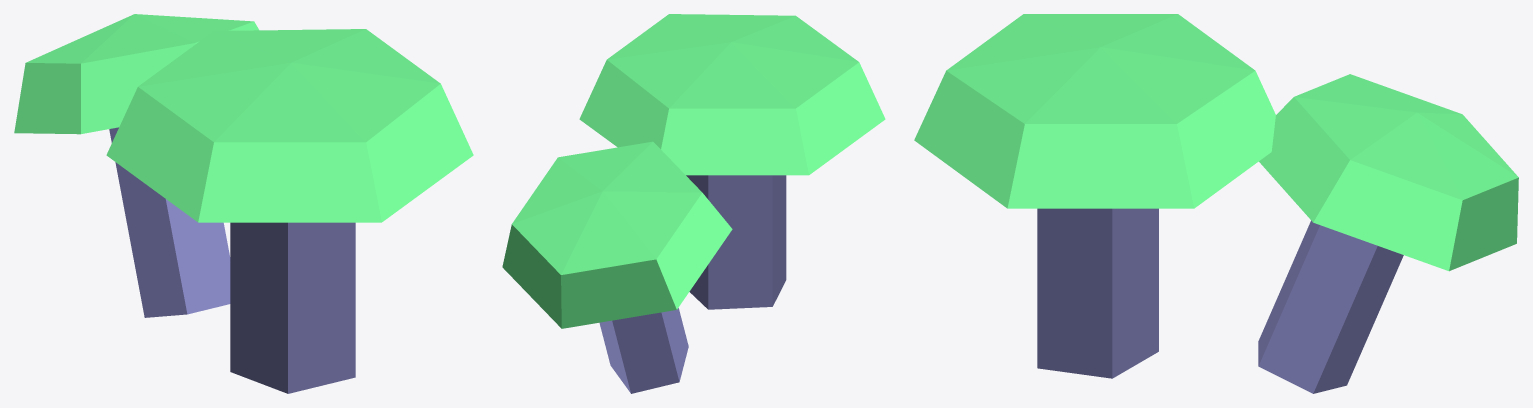
The model's file is SM_Mushroom_01.fbx.
3 views of the same model, side by side, from view 1: azimuth 30°, elevation 25°; view 2: azimuth 150°, elevation 25°; view 3: azimuth 270°, elevation 25° (orthographic). The views are drawn at different scales.
Visible parts, largest first — view 1: Cylinder.031; view 2: Cylinder.031; view 3: Cylinder.031.
Boxes of the visible parts, left/top/right/bottom form: Cylinder.031: left=14, top=14, right=473, bottom=393; Cylinder.031: left=502, top=14, right=885, bottom=393; Cylinder.031: left=914, top=14, right=1518, bottom=393.
Bounding box in the file's own units: 32.94 × 38.07 × 61.58.
